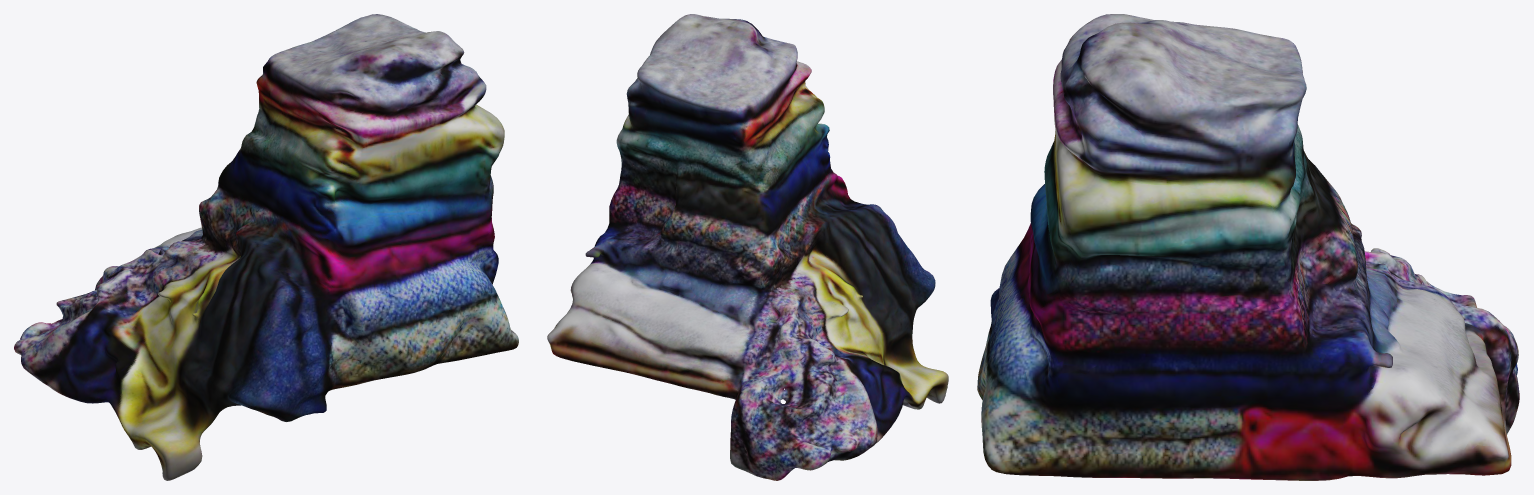
File: d93b951522f7_a_pile_of_clothes_m.fbx
The picture shows the model from 3 angles, left to right: view 1: azimuth 30°, elevation 25°; view 2: azimuth 150°, elevation 25°; view 3: azimuth 270°, elevation 25°; orthographic projection. The views are drawn at different scales.
Parts seen in each view (by area): view 1: high_poly; view 2: high_poly; view 3: high_poly.
Boxes of the visible parts, x1=… form: high_poly: x1=14, y1=14, x2=518, y2=480; high_poly: x1=547, y1=14, x2=948, y2=480; high_poly: x1=977, y1=14, x2=1519, y2=480.
Bounding box in the file's own units: 99.1 × 100 × 95.23.
